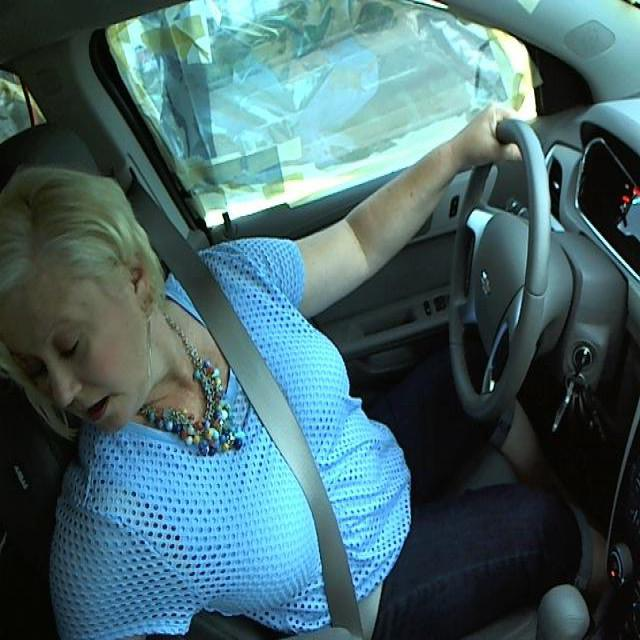seatbelt: (156, 247, 366, 622)
